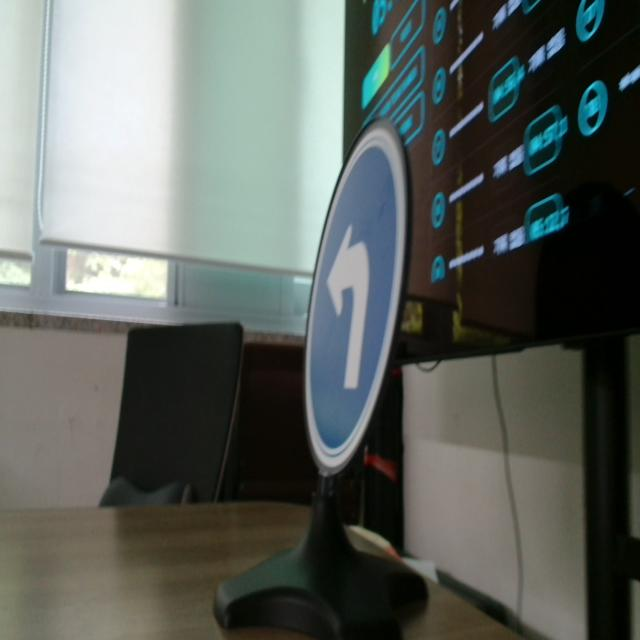left_direction: (303, 102, 423, 492)
